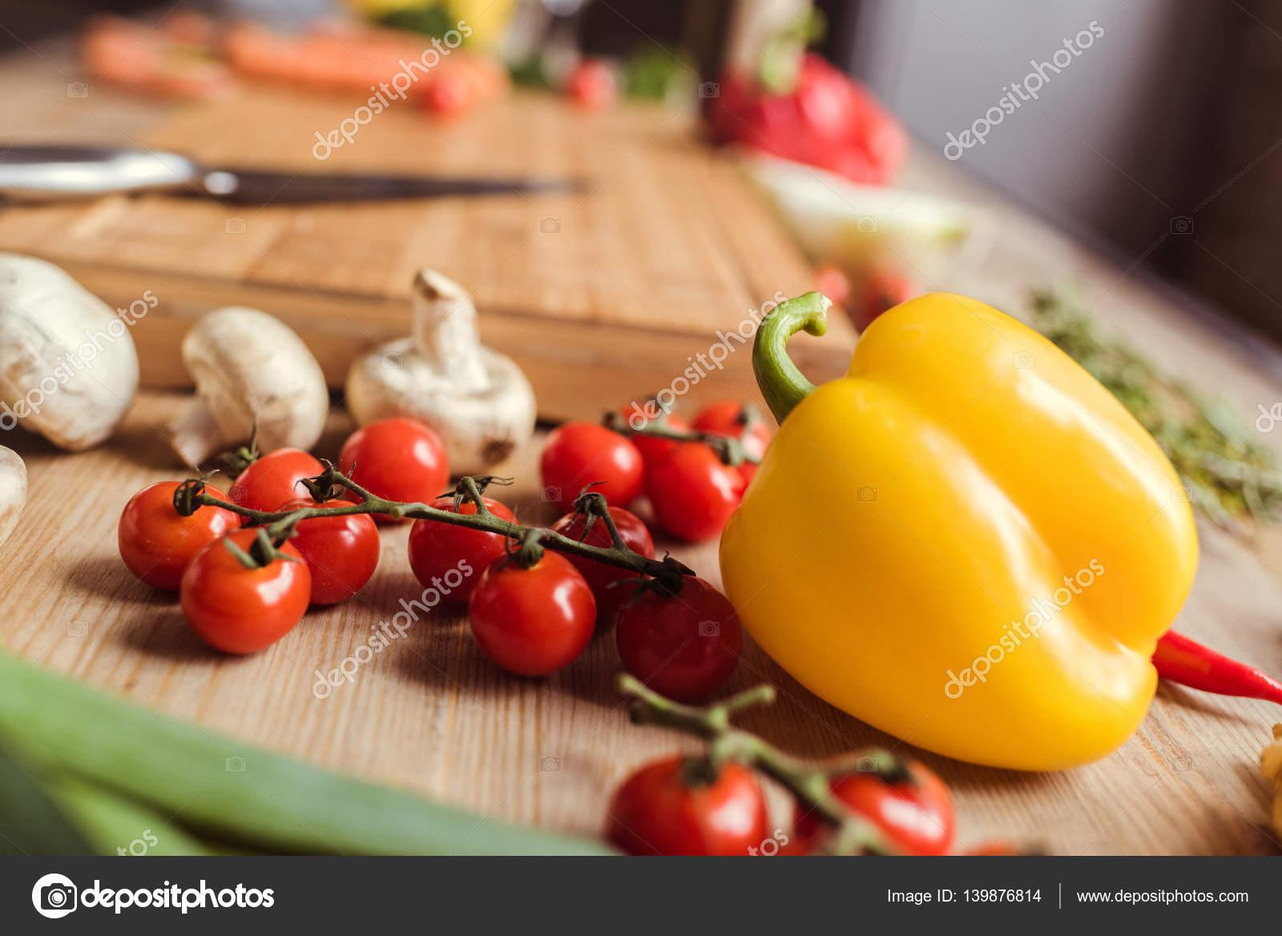banana: (714, 283, 1198, 770)
bell pepper: (724, 201, 1279, 781)
tomato: (123, 472, 692, 718)
